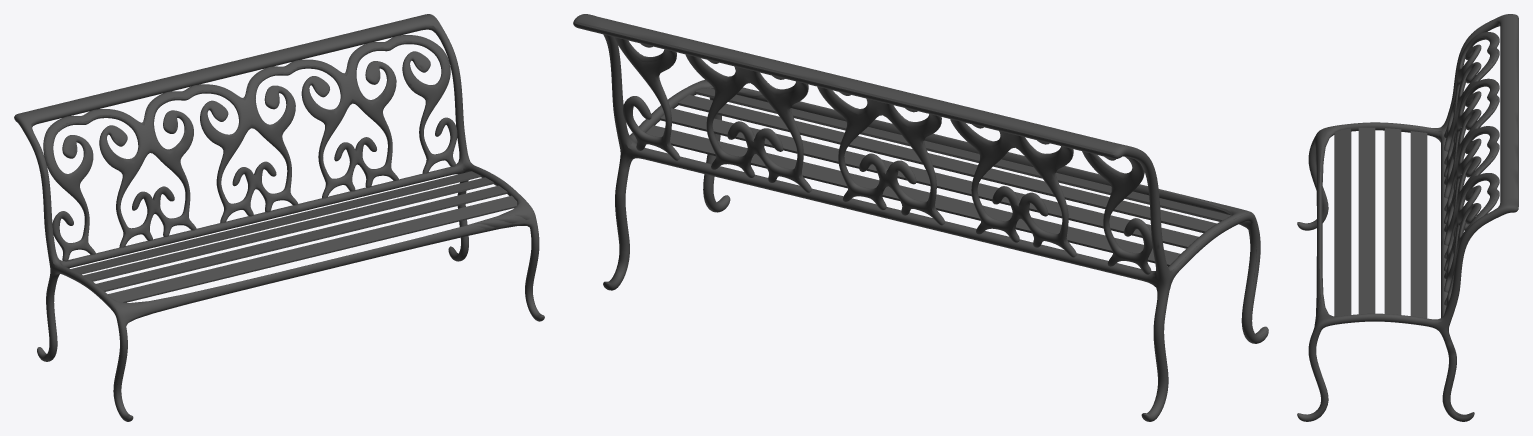
The model's file is bench.fbx.
3 renders of one model, left to right at view 1: azimuth 30°, elevation 25°; view 2: azimuth 150°, elevation 25°; view 3: azimuth 270°, elevation 25°, orthographic. The views are drawn at different scales.
Parts seen in each view (by area): view 1: Bench; view 2: Bench; view 3: Bench.
Boxes of the visible parts, x1,y1,x2,y2 form: Bench: (14,14,544,421); Bench: (573,14,1268,421); Bench: (1297,14,1518,421).
Size of the model in its own units: 1193 by 618 by 574.
